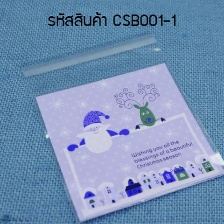snack: (13, 25, 224, 224)
